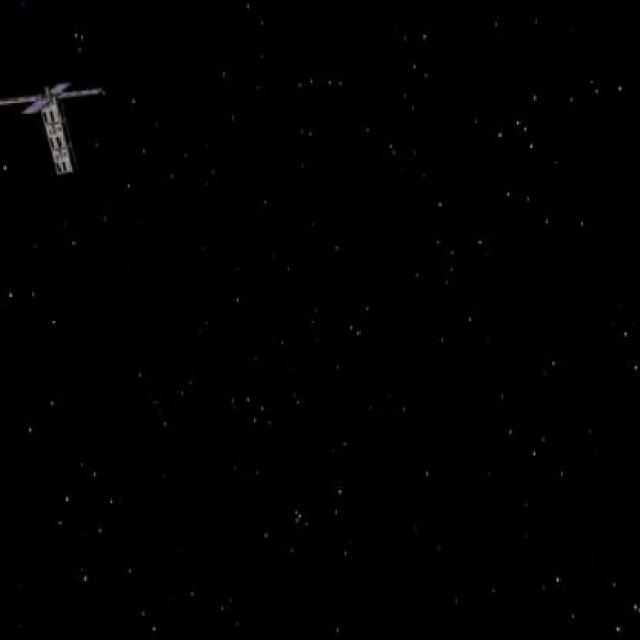satellite: (0, 60, 100, 180)
